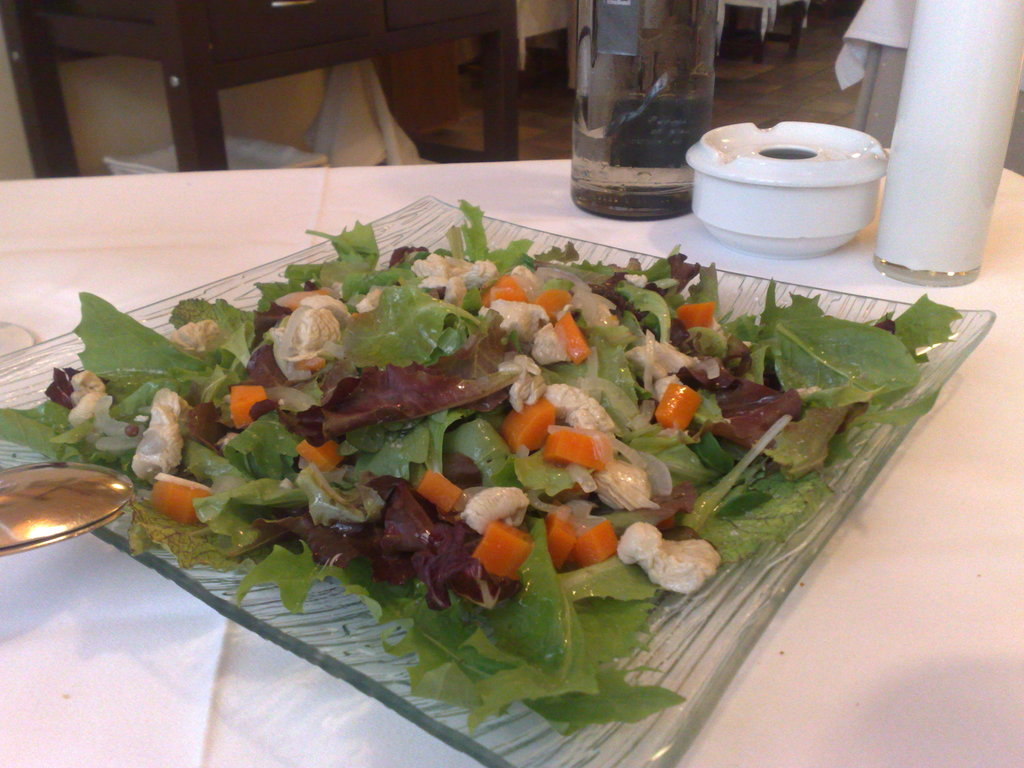salad: (1, 188, 959, 763)
